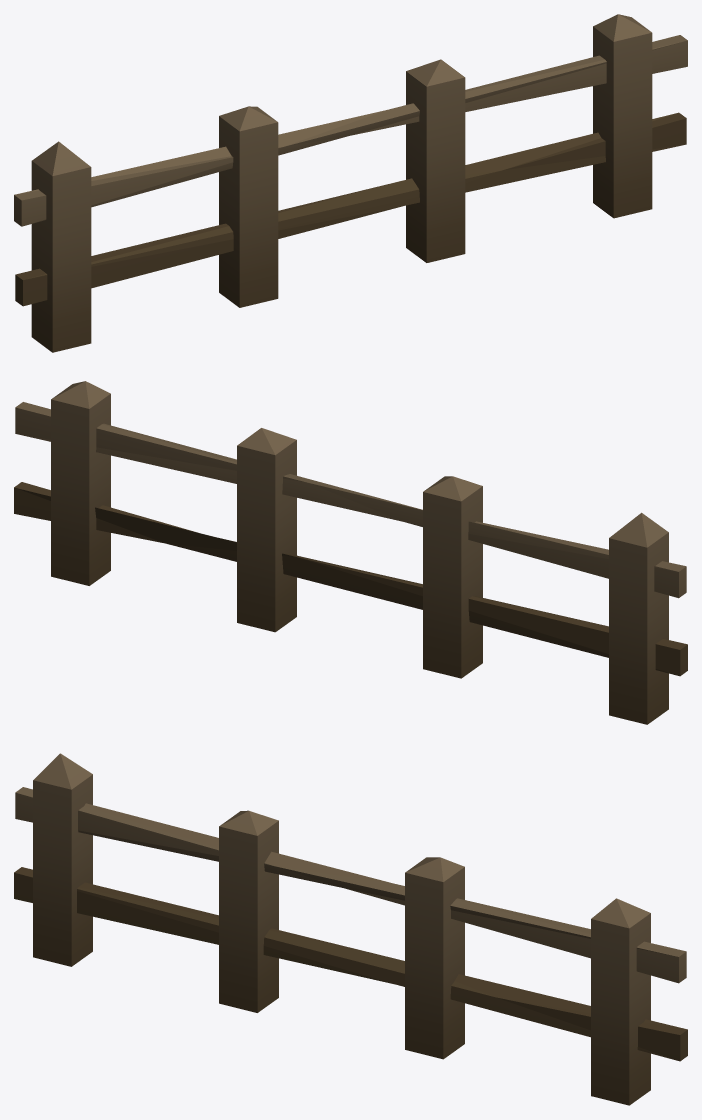
The model's file is Fence_Wood.fbx.
3 views of the same model, one above another, from view 1: azimuth 30°, elevation 25°; view 2: azimuth 150°, elevation 25°; view 3: azimuth 330°, elevation 25° (orthographic).
Parts seen in each view (by area): view 1: Fence_Wood; view 2: Fence_Wood; view 3: Fence_Wood.
Boxes of the visible parts, x1=… form: Fence_Wood: x1=14, y1=14, x2=687, y2=352; Fence_Wood: x1=14, y1=381, x2=687, y2=724; Fence_Wood: x1=14, y1=753, x2=687, y2=1105.
Bounding box in the file's own units: 4 × 1.15 × 0.25.
Materials: 1 (1 with a texture image).
